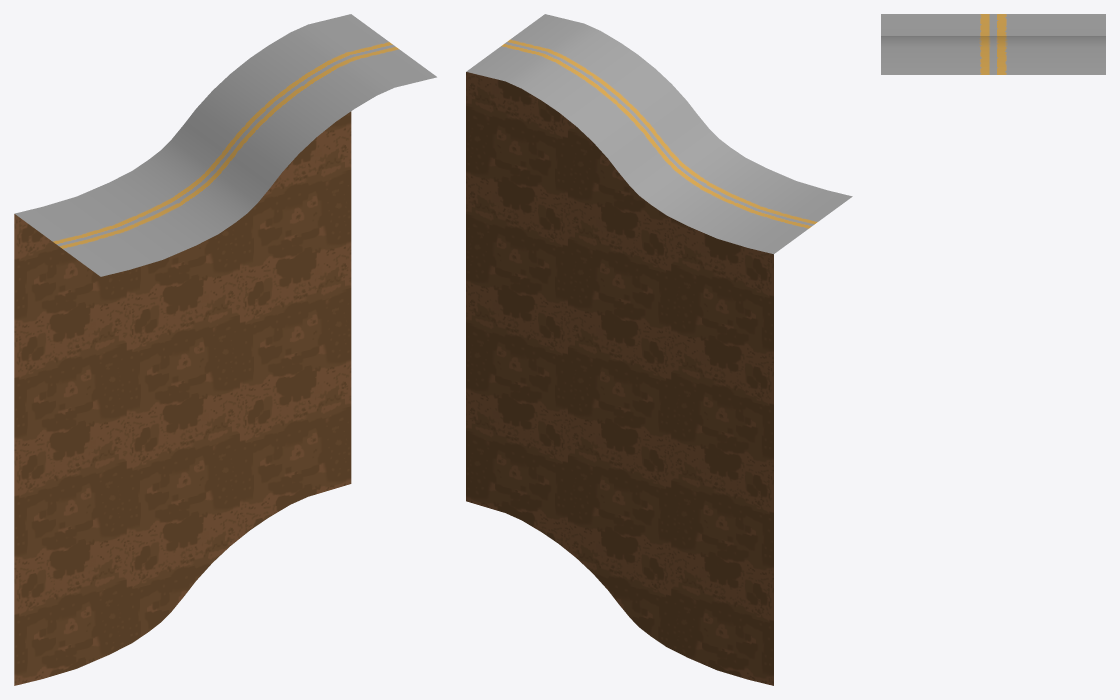
File: Terrain_05_slope_2.FBX
3 renders of one model, left to right at view 1: azimuth 30°, elevation 25°; view 2: azimuth 150°, elevation 25°; view 3: azimuth 270°, elevation 25°, orthographic. The views are drawn at different scales.
Visible parts, largest first — view 1: Terrain_05_ground, Terrain_05; view 2: Terrain_05_ground, Terrain_05; view 3: Terrain_05.
Boxes of the visible parts, <box> form: Terrain_05_ground: <box>14,111,351,685</box>; Terrain_05: <box>15,14,436,276</box>; Terrain_05_ground: <box>466,72,773,685</box>; Terrain_05: <box>466,14,852,254</box>; Terrain_05: <box>881,14,1105,74</box>.
Size of the model in its own units: 90 by 151 by 40.
